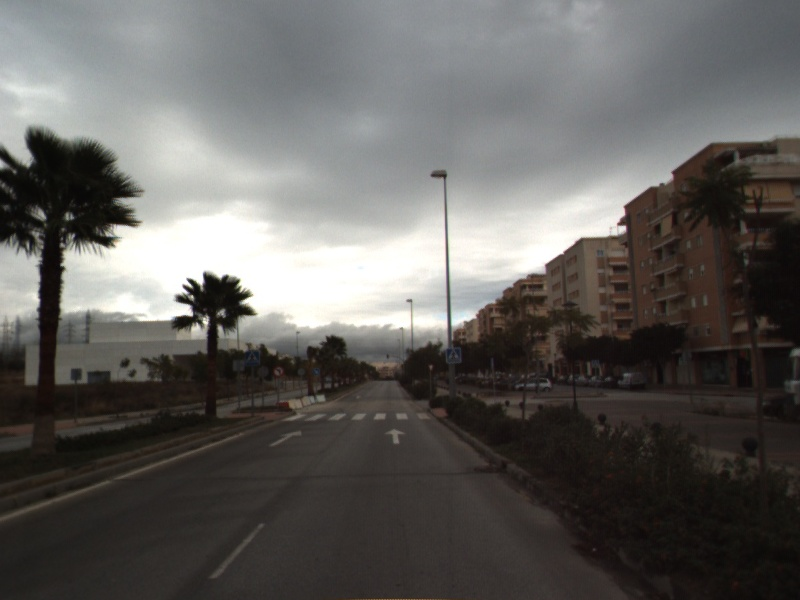STRAIGHT: (267, 428, 303, 448), (383, 426, 408, 446)
